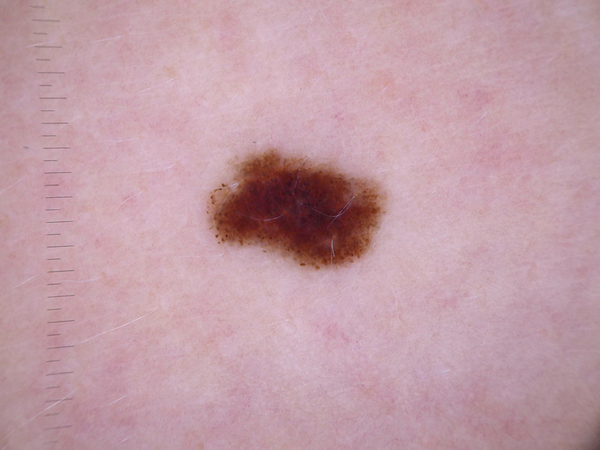Detected Lesion: (200, 147, 392, 273)
